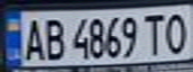4: (66, 15, 90, 60)
6: (103, 14, 124, 58)
8: (87, 15, 106, 60)
9: (118, 12, 142, 59)
A: (18, 15, 48, 62)
B: (39, 15, 69, 61)
O: (160, 9, 190, 55)
T: (139, 11, 169, 56)
